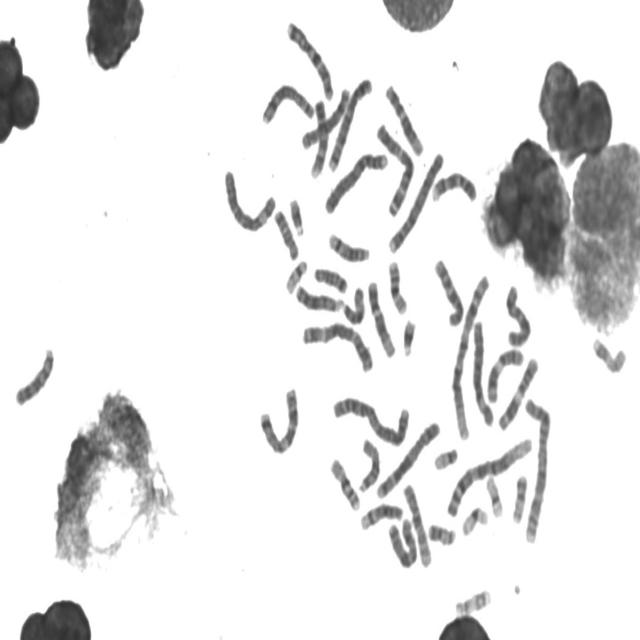A1: (444, 432, 534, 520), (448, 271, 491, 444)
A2: (330, 390, 412, 448), (522, 392, 552, 546)
A3: (299, 317, 375, 375), (374, 119, 416, 218)
B4: (386, 146, 446, 256), (322, 146, 389, 216)
B5: (374, 417, 442, 501), (325, 72, 373, 174)
C10: (401, 479, 433, 570), (432, 254, 464, 328)
C11: (496, 353, 540, 433), (484, 345, 526, 405)
C12: (382, 79, 425, 158), (365, 277, 397, 359)
C6: (222, 165, 278, 235), (469, 315, 495, 429)
C7: (284, 17, 335, 102), (257, 382, 301, 456)
C8: (299, 84, 351, 152), (259, 78, 316, 126)
C9: (429, 167, 478, 205), (308, 96, 329, 181)
D13: (12, 342, 56, 409), (293, 280, 343, 314)
D14: (357, 498, 405, 532), (326, 228, 371, 264)
D15: (356, 435, 381, 495), (340, 283, 366, 326)
E16: (328, 453, 362, 513), (386, 256, 408, 316)
E17: (590, 332, 628, 376), (452, 584, 492, 617)
E18: (272, 205, 300, 262), (312, 263, 349, 295)
F19: (483, 470, 505, 520), (459, 502, 489, 538)
F20: (510, 470, 530, 526), (425, 518, 457, 548)
G21: (287, 194, 305, 237), (400, 315, 417, 358)
G22: (283, 256, 309, 295), (432, 443, 459, 472)
X: (502, 280, 532, 348), (385, 514, 419, 570)
